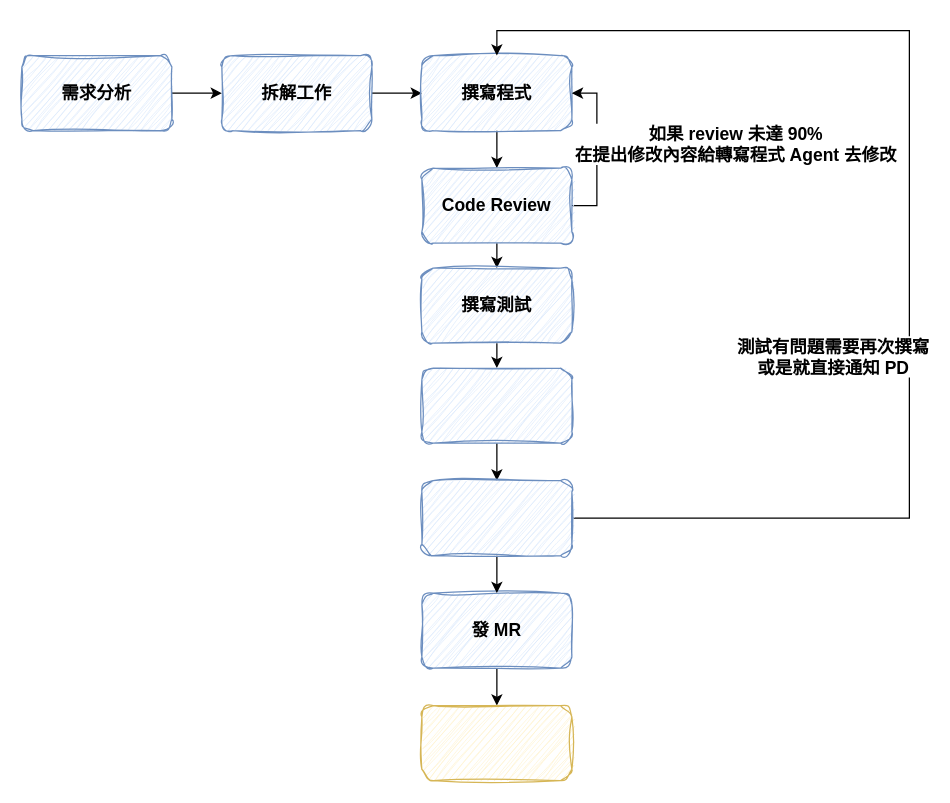
Some shapes in this 950 by 803 pixel diagram are drawn without their labels. Each missing label, with the centre of its shape:
"人工 Review" belongs at [496,742].
"建立測試環境" belongs at [496,405].
"自動測試" belongs at [496,517].
